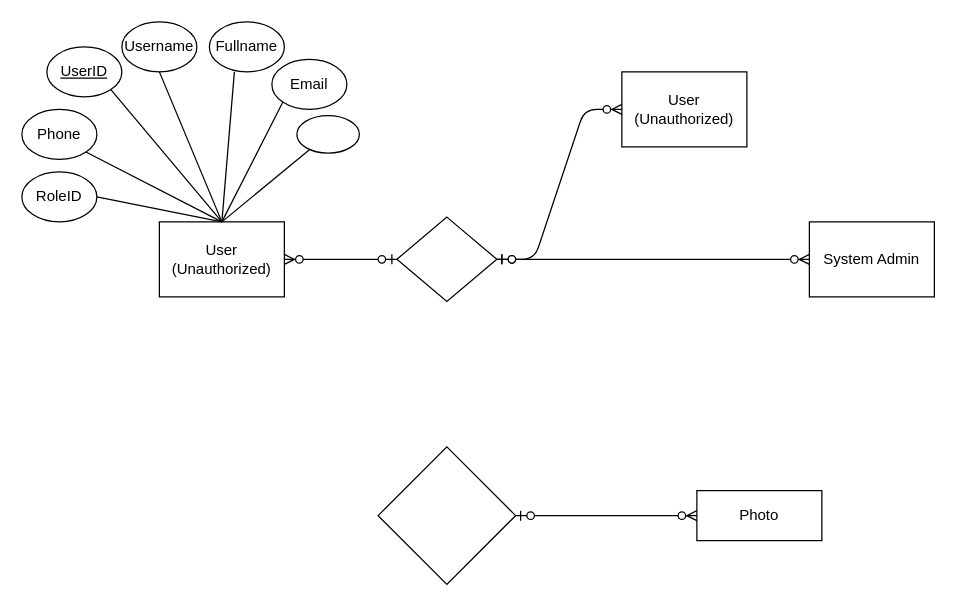
Image size: 956x606. Some labels were removed from this diagram. Here are the shapes that lost their labels. From the top down, the centre of each, then its label:
(x=327, y=133): DOB
(x=446, y=259): Login
(x=446, y=515): Add/Update Shopping Cart
